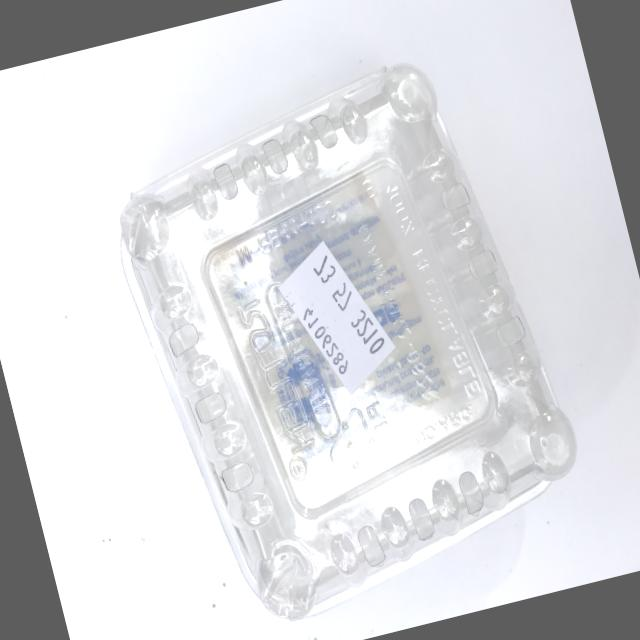Plastic: (80, 23, 628, 640)
